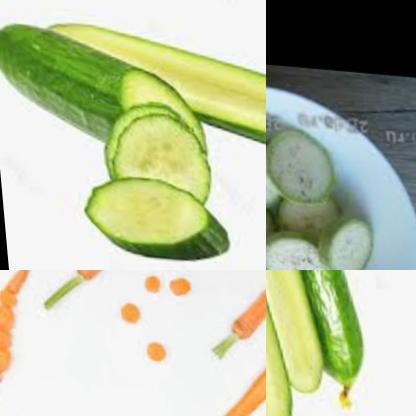carrot: (176, 327, 266, 416), (0, 270, 37, 416), (212, 270, 266, 355), (136, 333, 168, 368), (70, 270, 122, 288), (113, 296, 146, 324), (164, 270, 193, 293), (139, 270, 162, 293)
cucumber: (20, 0, 266, 178), (0, 16, 209, 158), (70, 172, 231, 269), (100, 97, 211, 203), (266, 270, 366, 384), (266, 270, 322, 391)
vegetable marrow: (266, 116, 387, 270)
